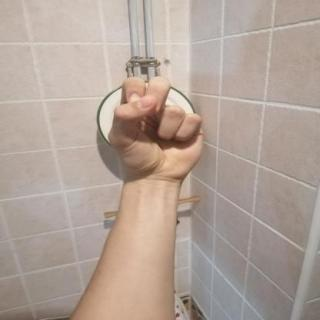QAAF: (92, 67, 224, 193)
